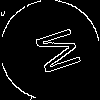M: (25, 25, 82, 79)
